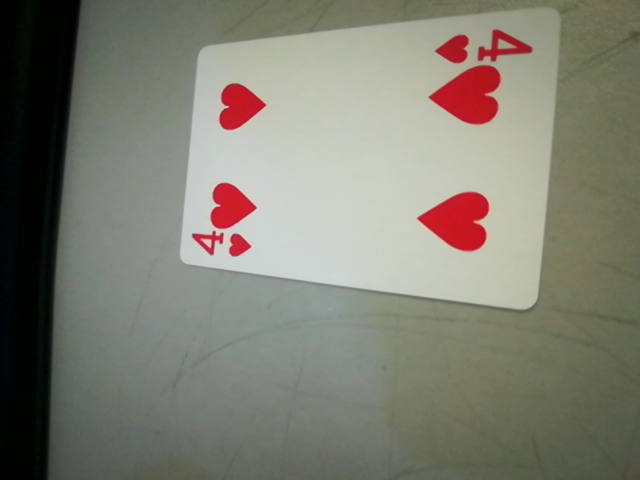hx 4: (430, 30, 533, 65)
